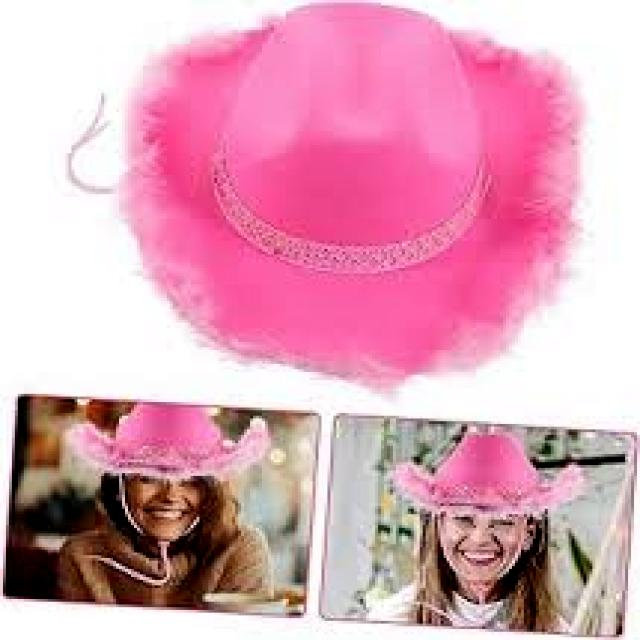hat: (120, 3, 580, 382), (69, 403, 270, 481), (393, 433, 583, 514)
